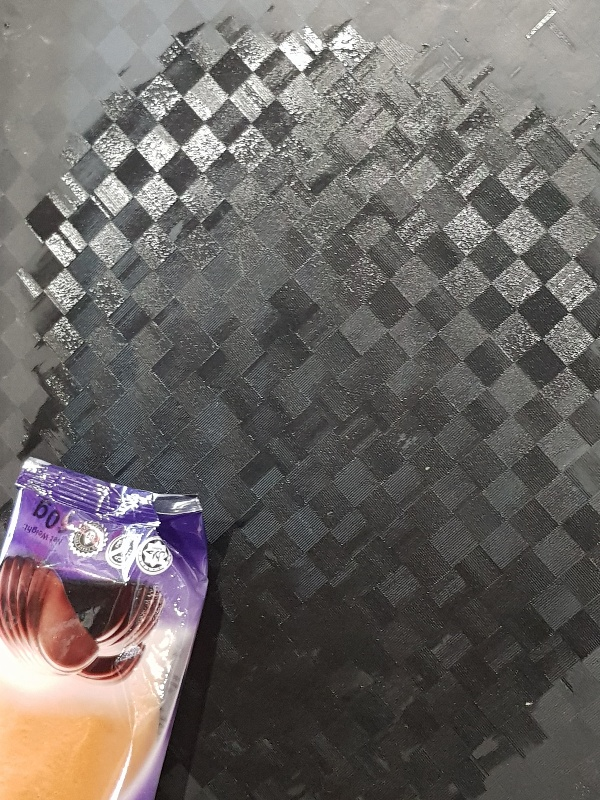Tinges Roll Chocolate: (1, 457, 209, 800)
